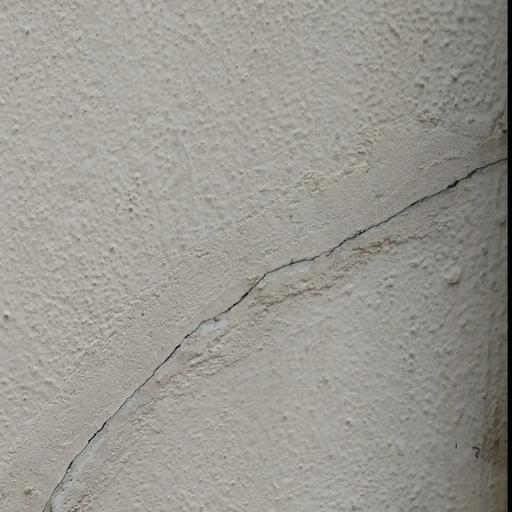minor_crack: (35, 148, 512, 512)
